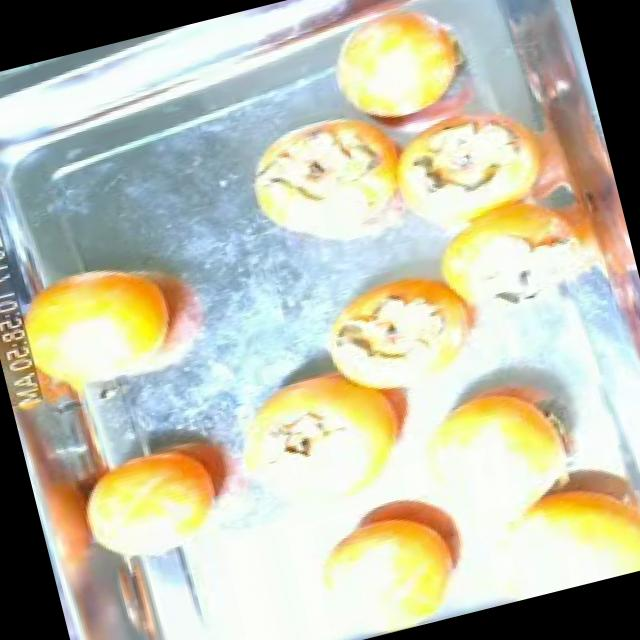Fruit: (0, 232, 220, 431), (298, 0, 490, 143)
